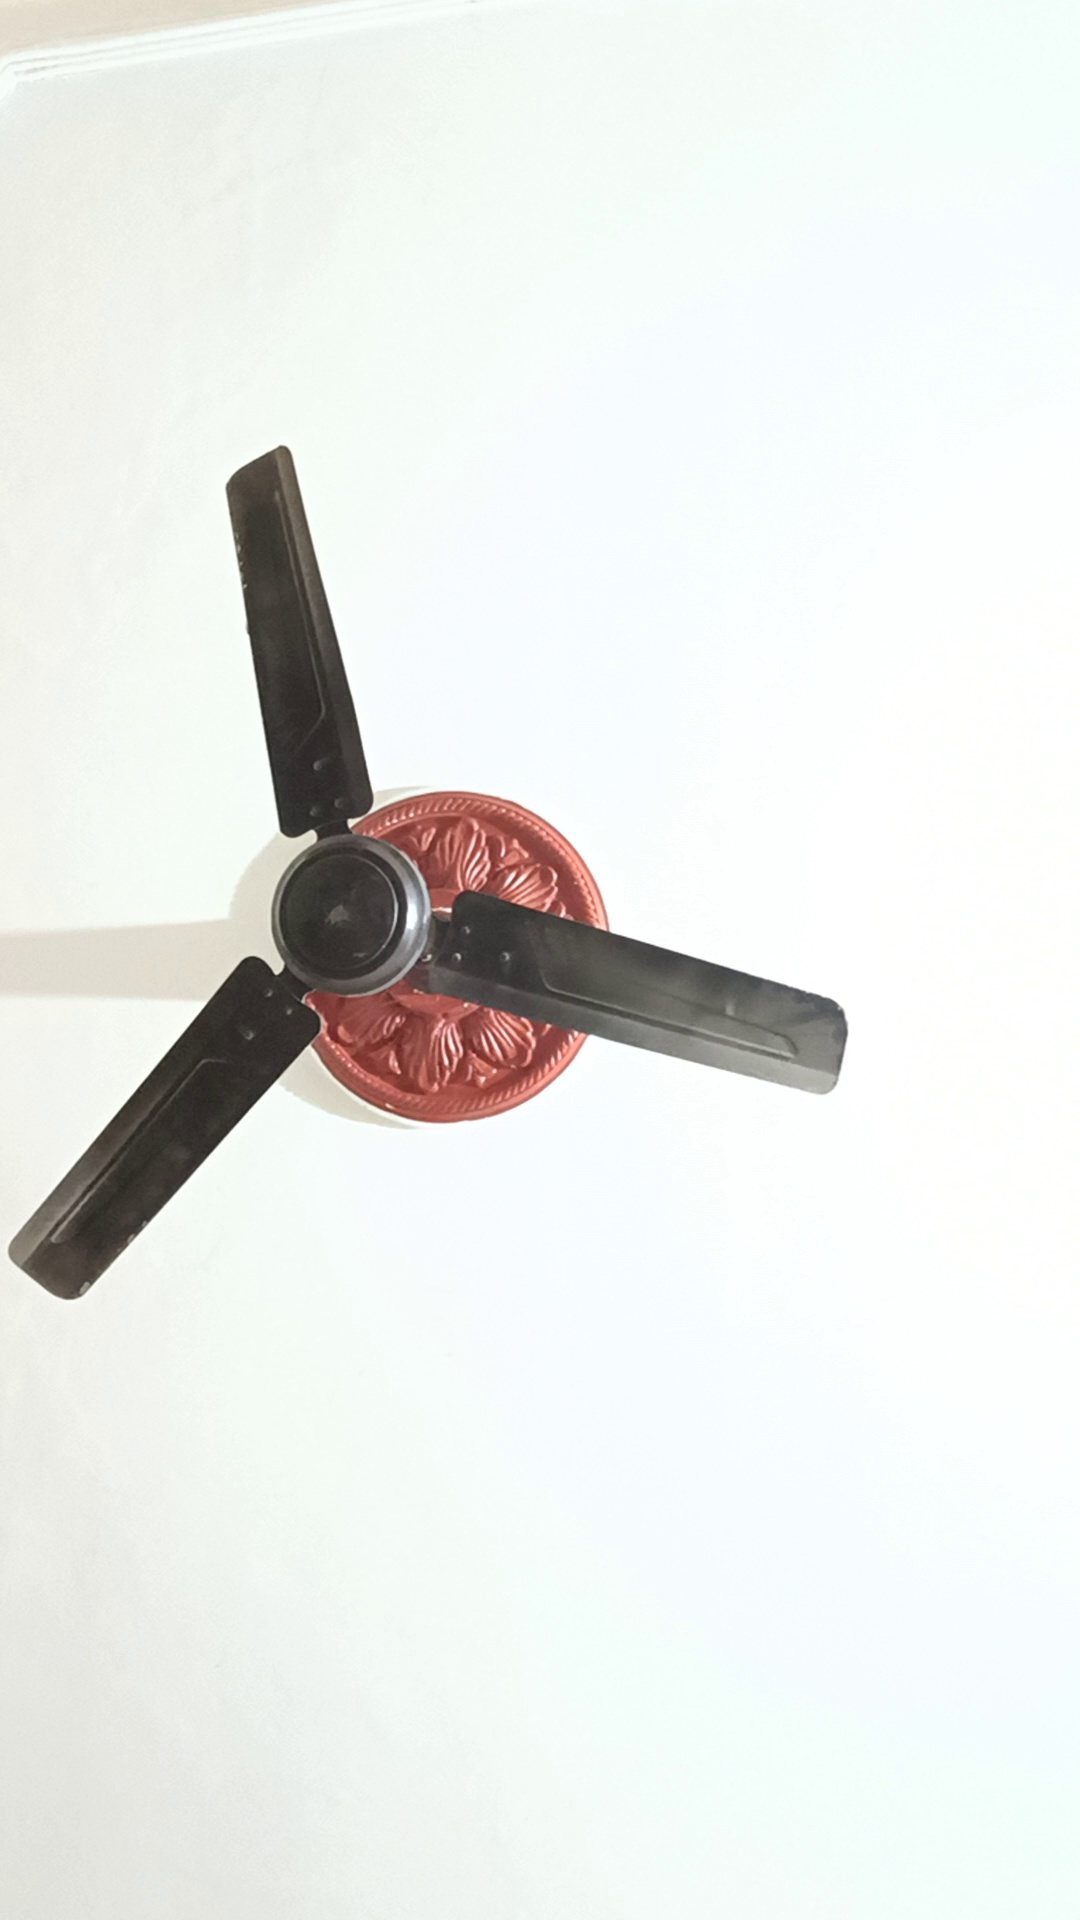fan: (1, 419, 882, 1327)
